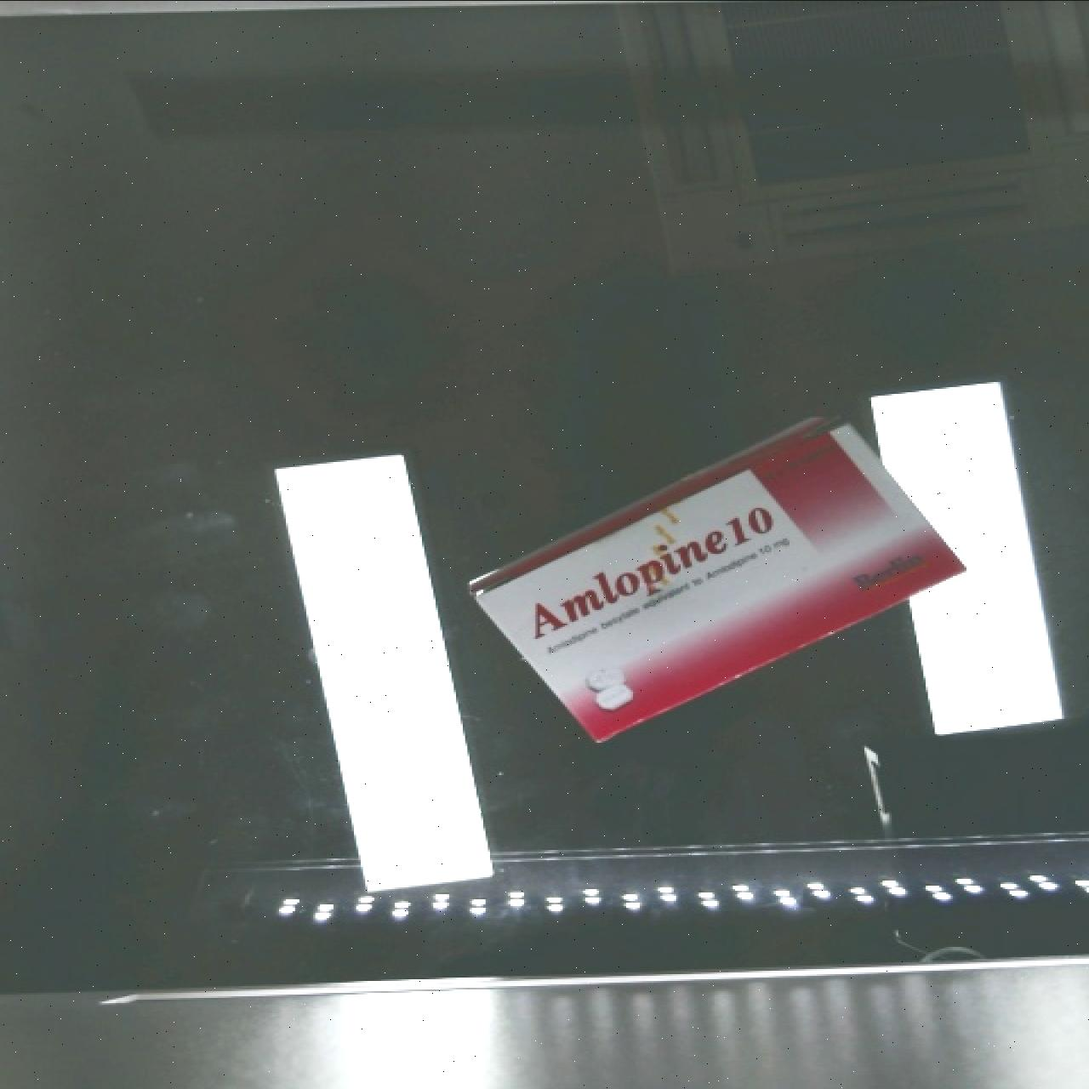medicine_label_obb: (495, 471, 797, 664)
